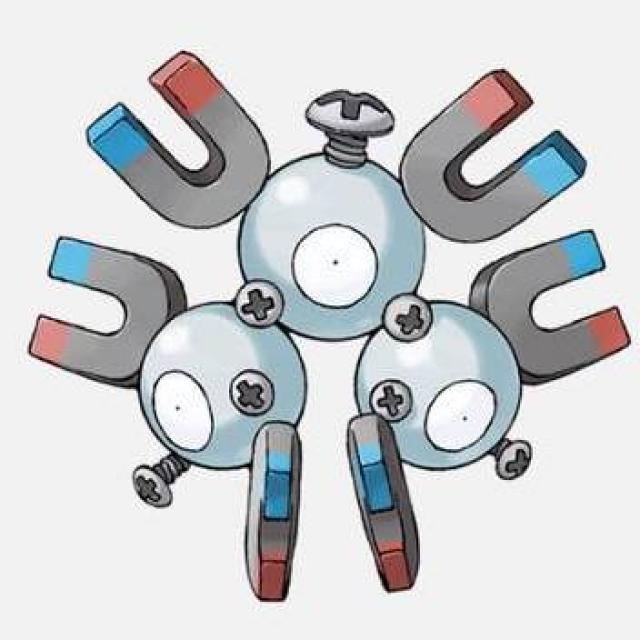Magneton: (101, 81, 567, 503)
